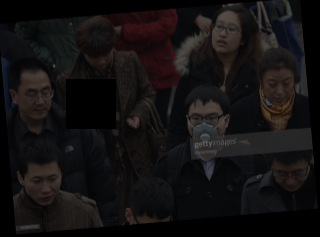with_mask: (186, 109, 227, 147)
without_mask: (17, 83, 53, 122), (25, 171, 64, 206), (209, 16, 243, 54), (262, 73, 296, 105), (273, 163, 309, 191), (85, 49, 114, 70)
